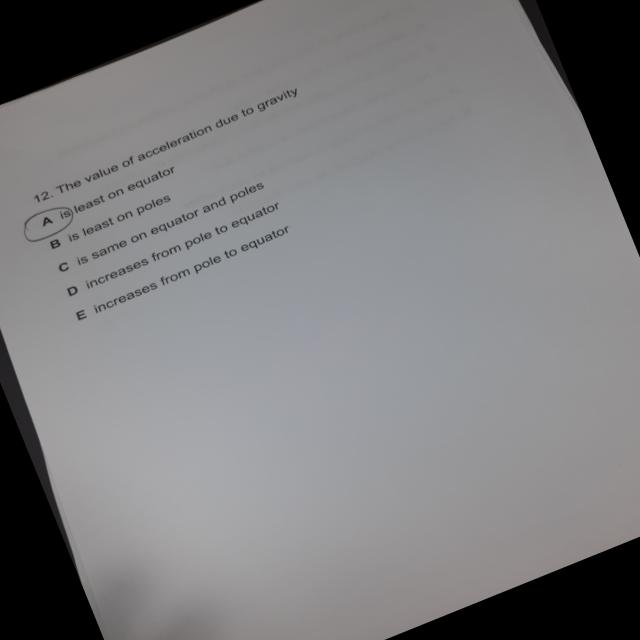A: (14, 199, 83, 250)
